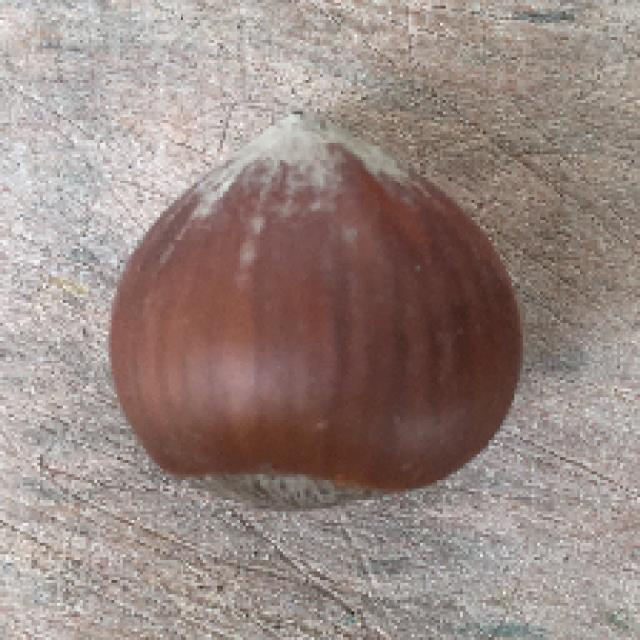DamagedHazelnut: (105, 116, 529, 512)
